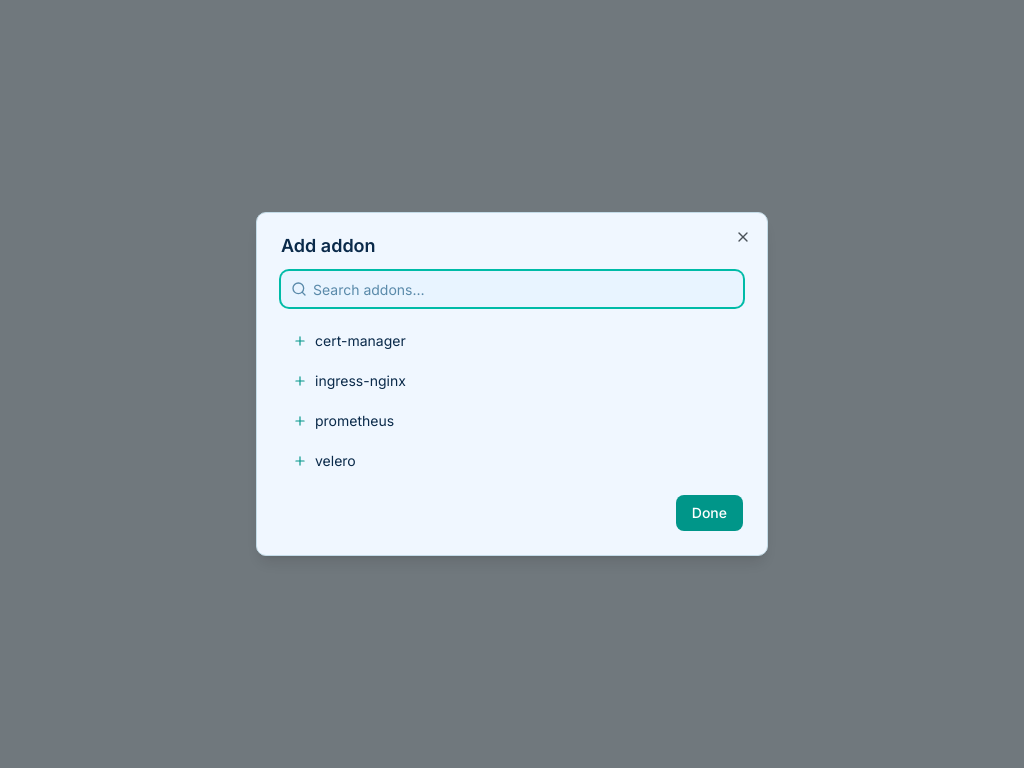
EnableAddonPicker › filters list by search query (case-insensitive)
This screenshot has width=1024, height=768.
Type "CERT" into the field with test id "addon-picker-search" at (512, 289), box [281,271,743,307]
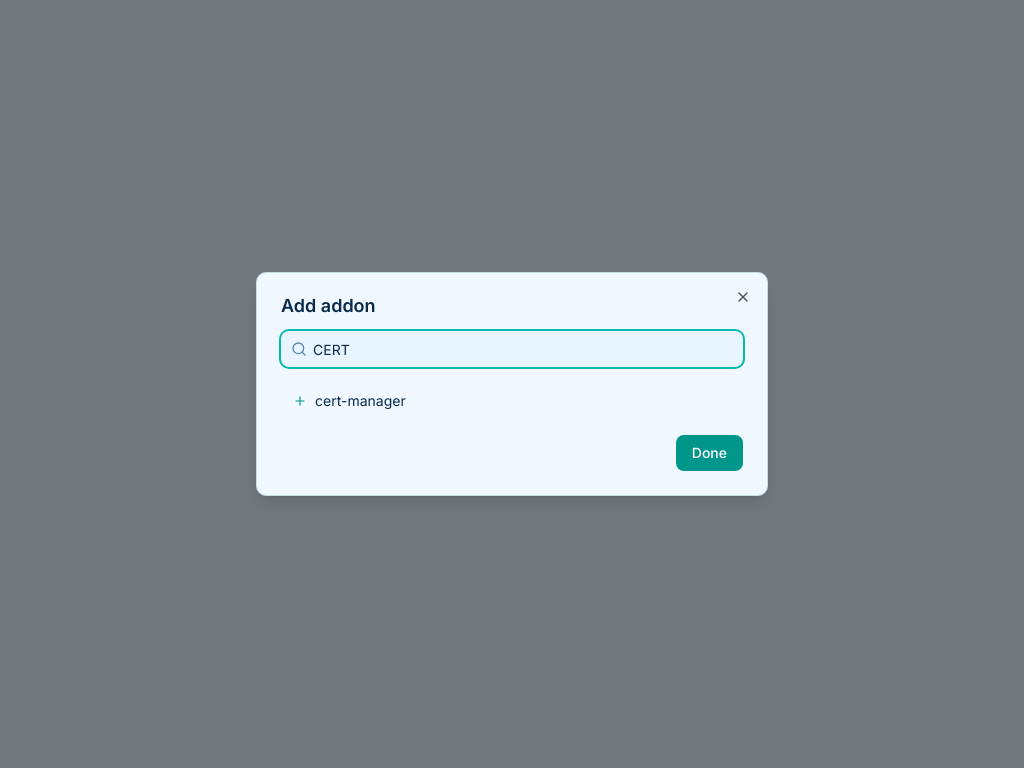
Expected: the button with test id "addon-picker-item-cert-manager" is shown, [281,383,743,419]
Expected: the button with test id "addon-picker-item-prometheus" is gone
Expected: the button with test id "addon-picker-item-velero" is gone
